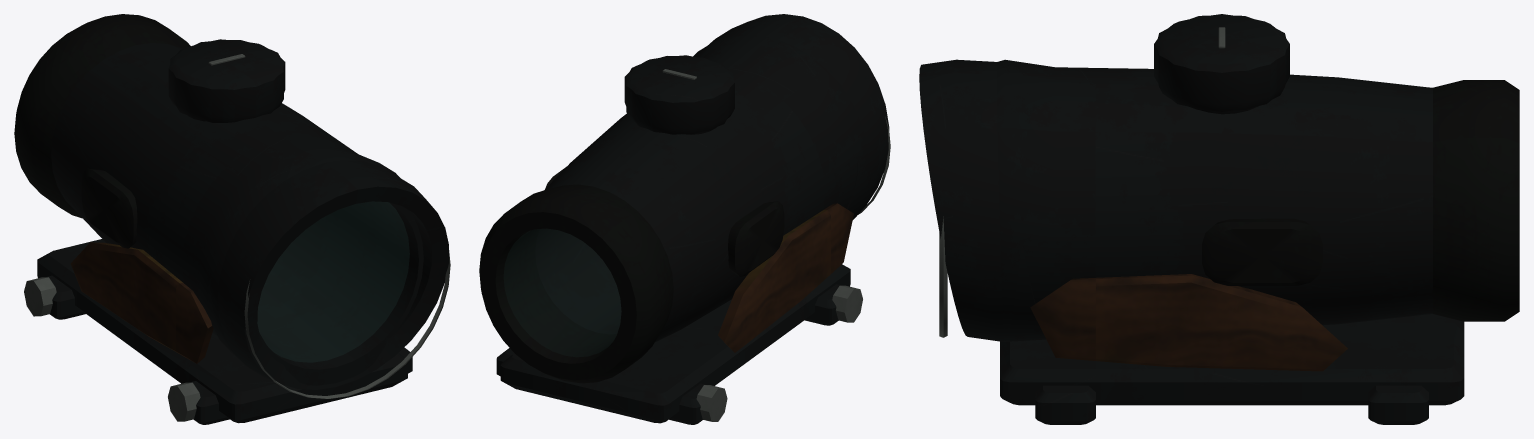
The model's file is Prism_Concept02_Module.fbx.
3 renders of one model, left to right at view 1: azimuth 30°, elevation 25°; view 2: azimuth 150°, elevation 25°; view 3: azimuth 270°, elevation 25°, orthographic. The views are drawn at different scales.
Parts seen in each view (by area): view 1: Prism_Optic_Anodized_R2_Standalone, Prism_Rubber_Soot_R2_Standalone, Prism_Bark_Walnut_R2_Standalone, Prism_Trim_BrushedSteel_R2_Standalone; view 2: Prism_Optic_Anodized_R2_Standalone, Prism_Rubber_Soot_R2_Standalone, Prism_Bark_Walnut_R2_Standalone, Prism_Trim_BrushedSteel_R2_Standalone; view 3: Prism_Optic_Anodized_R2_Standalone, Prism_Rubber_Soot_R2_Standalone, Prism_Bark_Walnut_R2_Standalone, Prism_Trim_BrushedSteel_R2_Standalone.
Boxes of the visible parts, bbox=[...] form: Prism_Optic_Anodized_R2_Standalone: bbox=[37, 39, 448, 424]; Prism_Rubber_Soot_R2_Standalone: bbox=[14, 14, 190, 248]; Prism_Bark_Walnut_R2_Standalone: bbox=[70, 242, 213, 363]; Prism_Trim_BrushedSteel_R2_Standalone: bbox=[24, 54, 450, 421]; Prism_Optic_Anodized_R2_Standalone: bbox=[496, 14, 889, 424]; Prism_Rubber_Soot_R2_Standalone: bbox=[479, 166, 784, 383]; Prism_Bark_Walnut_R2_Standalone: bbox=[718, 203, 853, 352]; Prism_Trim_BrushedSteel_R2_Standalone: bbox=[662, 69, 890, 421]; Prism_Optic_Anodized_R2_Standalone: bbox=[919, 14, 1464, 424]; Prism_Rubber_Soot_R2_Standalone: bbox=[1202, 80, 1519, 321]; Prism_Bark_Walnut_R2_Standalone: bbox=[1030, 274, 1347, 371]; Prism_Trim_BrushedSteel_R2_Standalone: bbox=[939, 27, 1225, 337].
Size of the model in its own units: 5.95 by 7.24 by 11.9.
